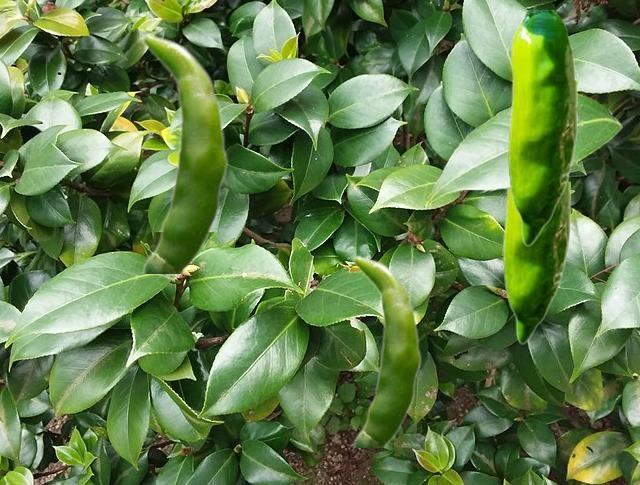green_chili: (140, 32, 228, 272), (507, 10, 576, 245), (351, 254, 421, 446), (502, 181, 569, 343)
